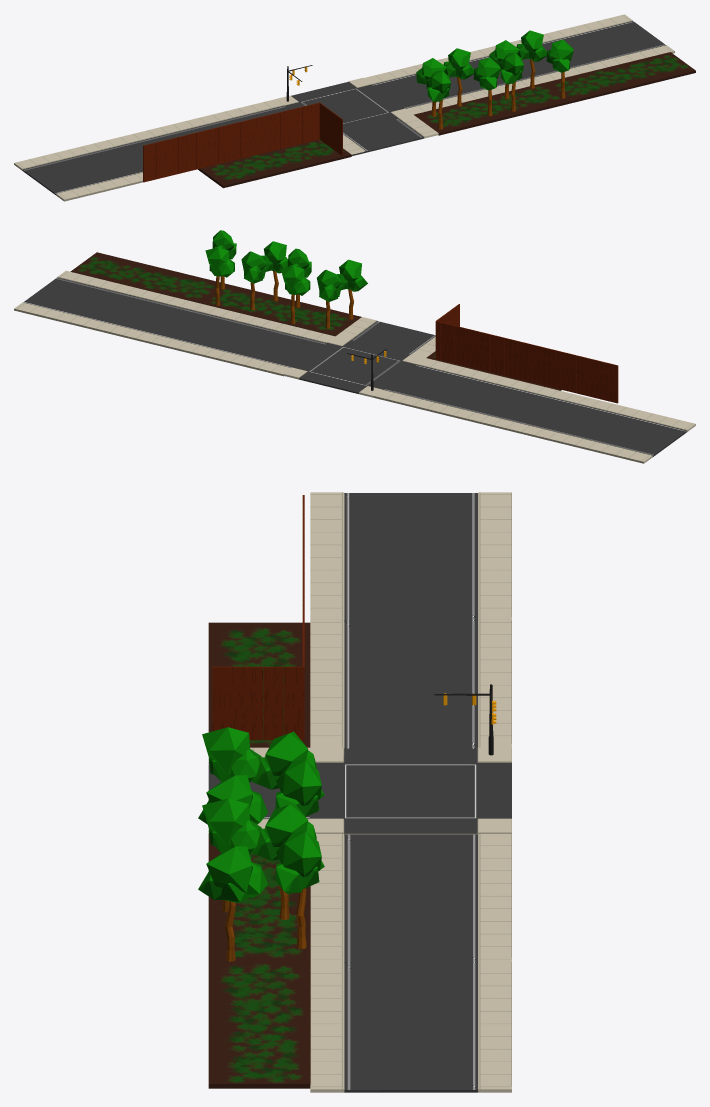
File: CityPt6.fbx
The picture shows the model from 3 angles, top to bottom: view 1: azimuth 30°, elevation 25°; view 2: azimuth 150°, elevation 25°; view 3: azimuth 270°, elevation 25°; orthographic projection. The views are drawn at different scales.
Visible parts, largest first — view 1: Baldio, StreetCo.005, Street.001, Tree, StreetC, StreetCo.004; view 2: Street.001, StreetCo.005, Baldio, Tree, StreetC, StreetCo.004; view 3: StreetCo.005, Street.001, Baldio, Tree, StreetC.
Part boxes in pixels (bbox=[...]): Baldio: bbox=[143, 52, 695, 188]; StreetCo.005: bbox=[364, 14, 674, 114]; Street.001: bbox=[14, 99, 289, 201]; Tree: bbox=[416, 30, 573, 129]; StreetC: bbox=[276, 78, 413, 132]; StreetCo.004: bbox=[343, 115, 438, 155]; Street.001: bbox=[374, 358, 695, 463]; StreetCo.005: bbox=[14, 270, 334, 376]; Baldio: bbox=[70, 252, 618, 403]; Tree: bbox=[205, 230, 367, 328]; StreetC: bbox=[284, 336, 425, 397]; StreetCo.004: bbox=[336, 317, 435, 357]; StreetCo.005: bbox=[310, 833, 511, 1092]; Street.001: bbox=[310, 492, 511, 748]; Baldio: bbox=[208, 495, 310, 1088]; Tree: bbox=[198, 727, 324, 961]; StreetC: bbox=[309, 747, 511, 834].
Bounding box in the file's own units: 70 × 6.51 × 15.58.
